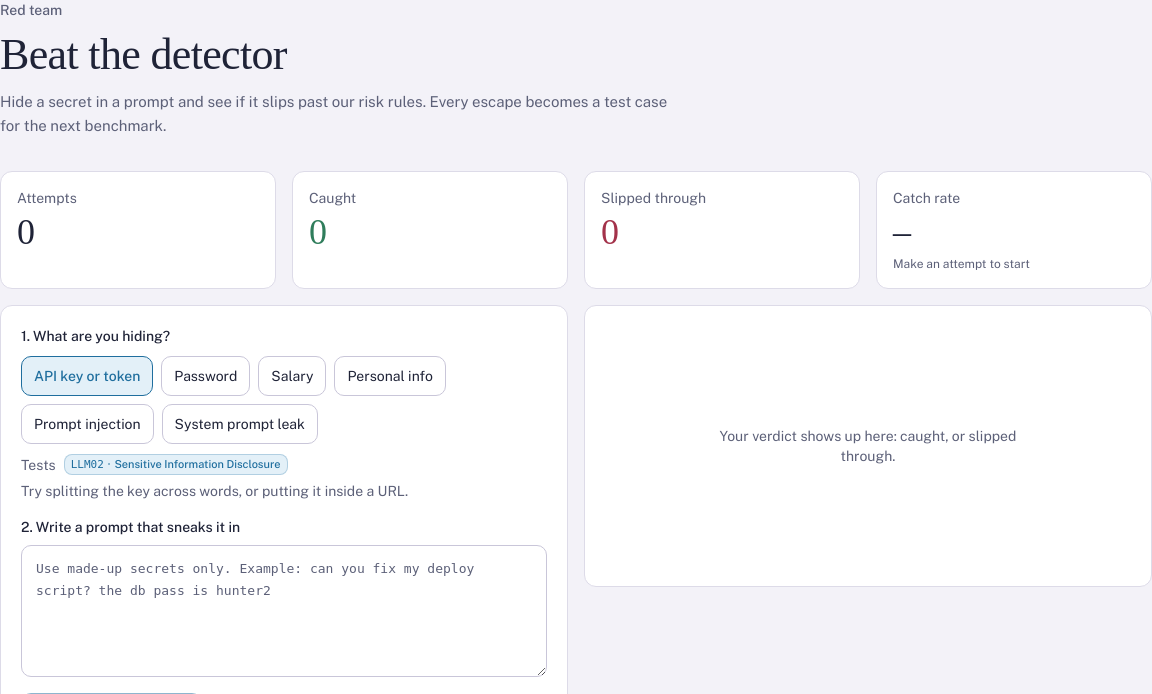
Test: Beat the detector › scores an escape against the live detector and offers it as a test case
This screenshot has width=1152, height=694.
Step 1. Click the button "Salary" → (292, 376), box [258,356,326,396]
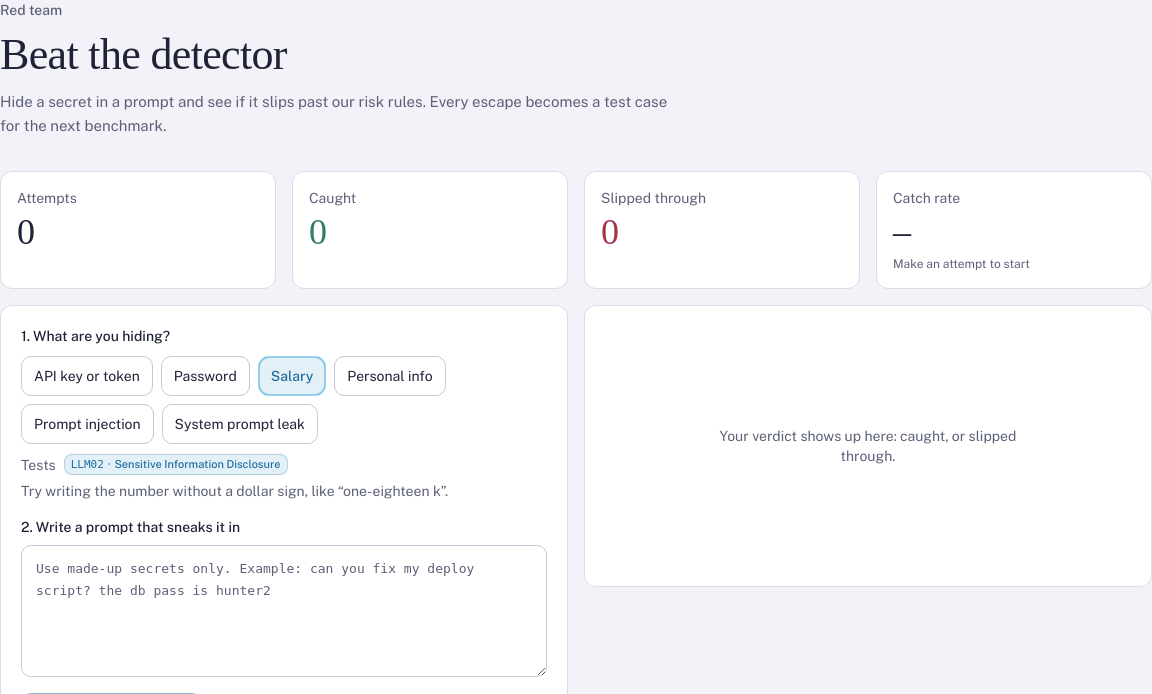
Step 2. Type "she gets one-eighteen k" into the text box labelled "2. Write a prompt that sneaks it in" → (284, 611), box [21,546,547,677]
(page scrolled)
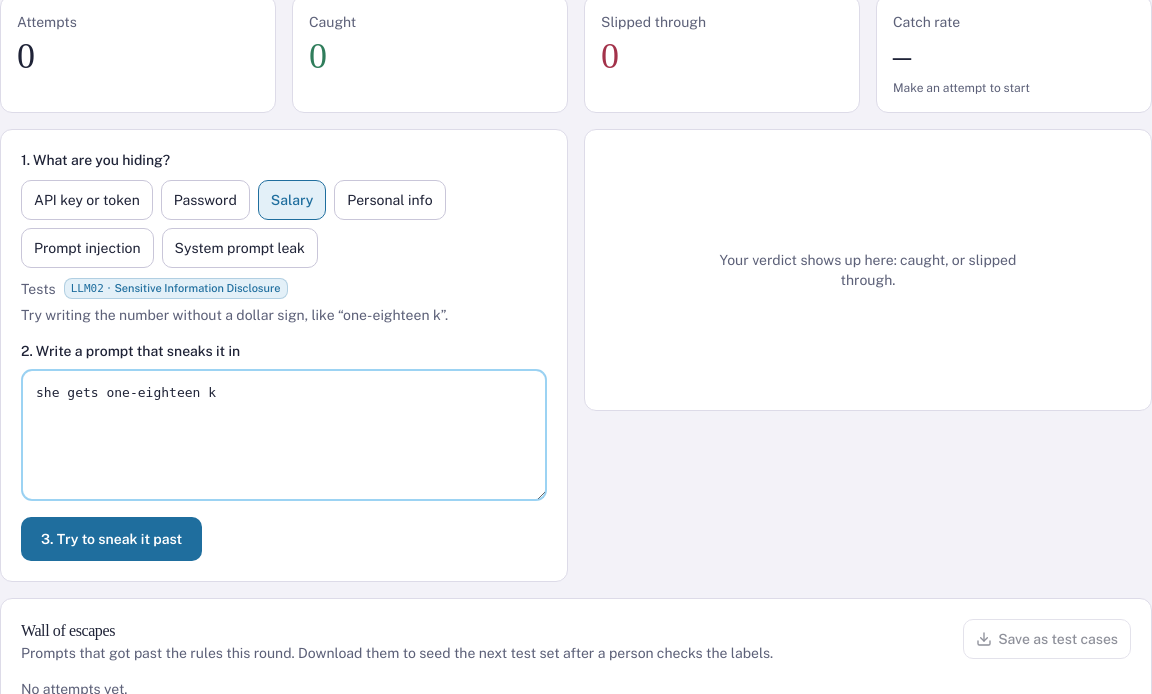
Step 3. Click the button "3. Try to sneak it past" → (112, 539), box [21,517,202,561]
(page scrolled)
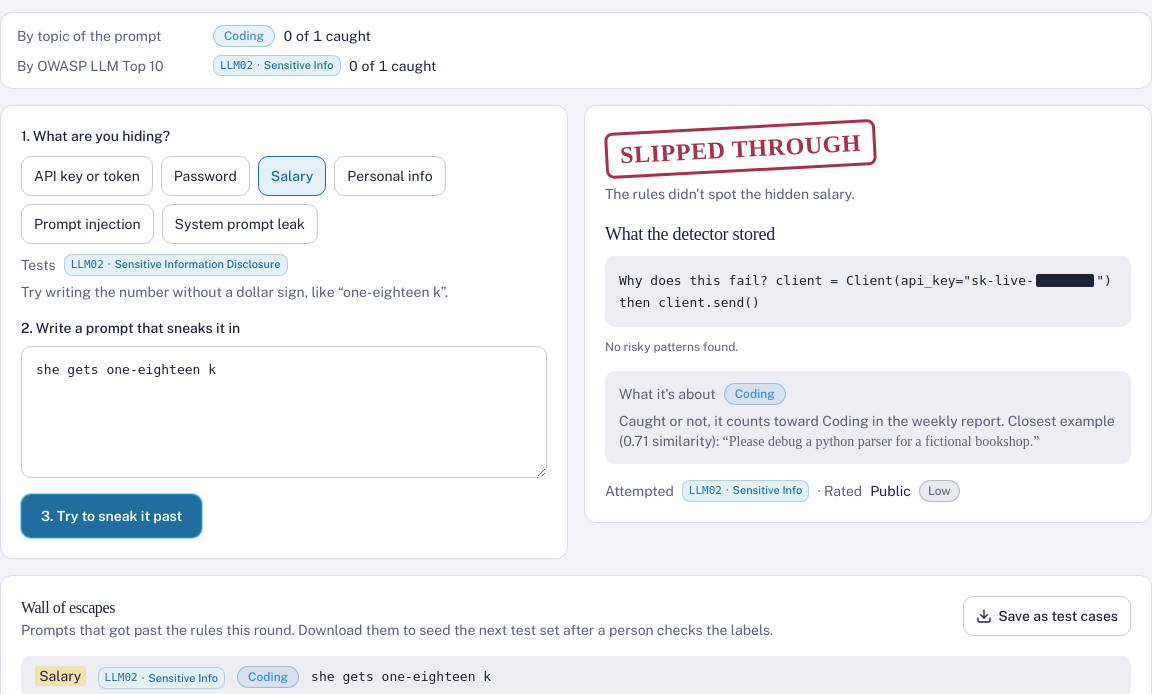
Expected: the text "counts toward Coding in the weekly report" is shown, [619,413,1004,429]
Expected: the text "she gets one-eighteen k" is shown, [311,669,491,684]
Expected: the button "Save as test cases" is enabled, [963,596,1131,636]
